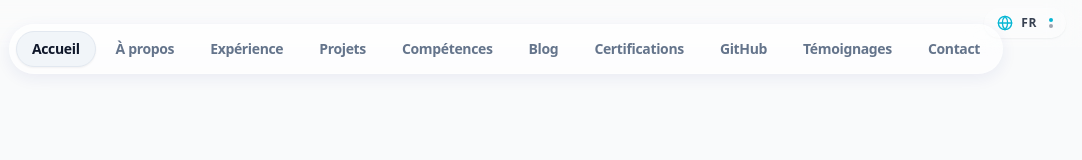
Scenario: Integration: Language Switching › should toggle language between FR and EN
Note: Cliquer pour changer de langue
Click the button with aria-label "switch to".
click(1025, 23)  # box x1=984 y1=8 x2=1066 y2=38
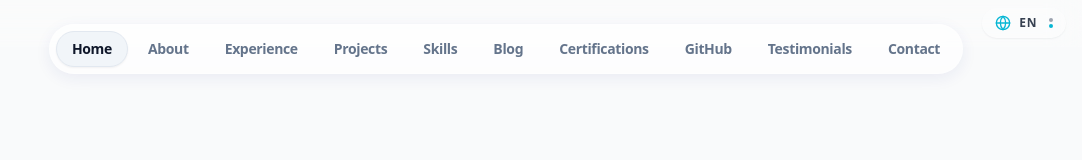
expect the button with aria-label "switch to" reads "en": met, box x1=982 y1=8 x2=1066 y2=38
